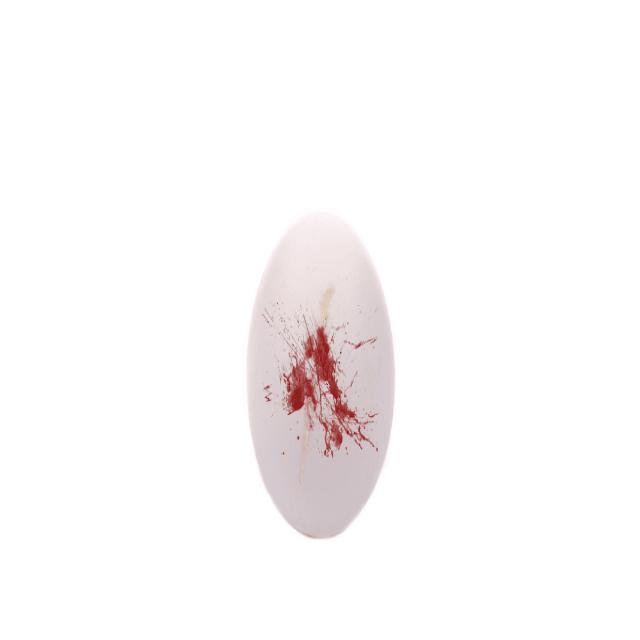Blood Stained Egg: (231, 210, 421, 551)
